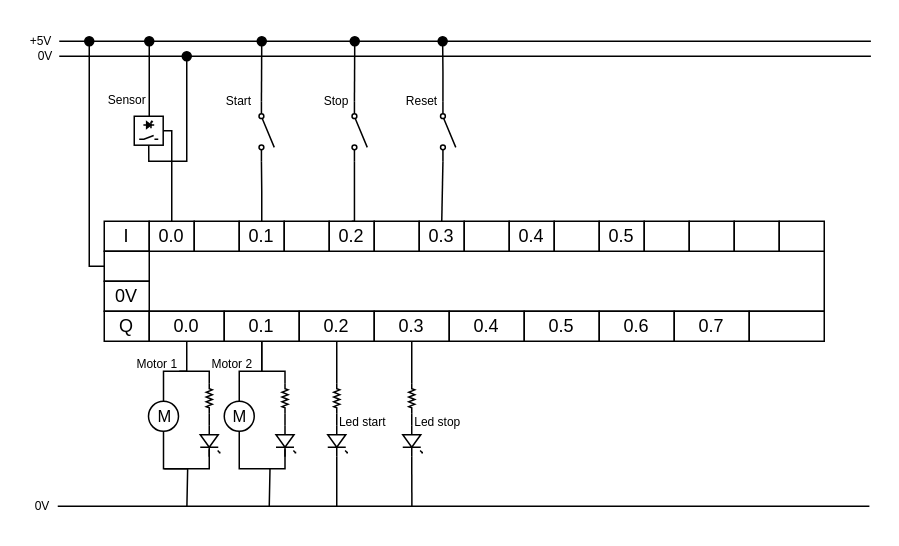
The diagram is 899 pixels wide and 546 high, and some of its shapes have lost their labels. Here are the shapes that lost their labels. From the top down, the centre of each, then its label:
At (126,265): "5V".
At (486,280): "PLC".
